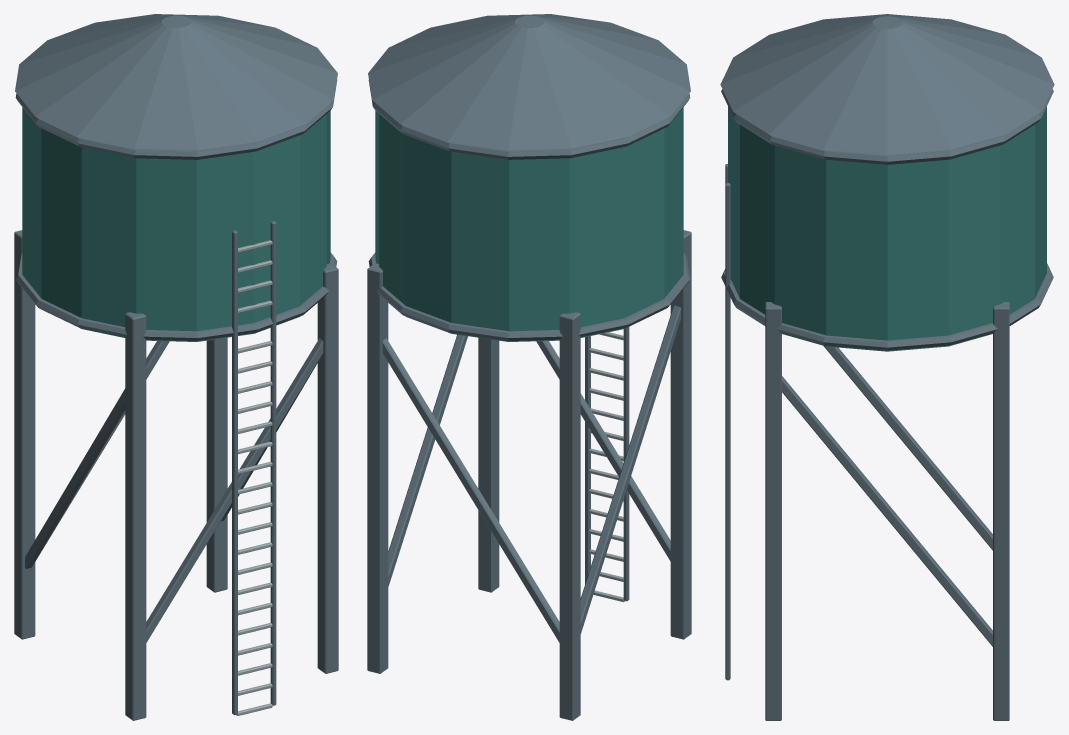
The model's file is architecture-water-tower.lod0.glb.
The picture shows the model from 3 angles, left to right: view 1: azimuth 30°, elevation 25°; view 2: azimuth 150°, elevation 25°; view 3: azimuth 270°, elevation 25°; orthographic projection. The views are drawn at different scales.
Visible parts, largest first — view 1: architecture-water-tower__body; view 2: architecture-water-tower__body; view 3: architecture-water-tower__body.
Part boxes in pixels (x1=…): architecture-water-tower__body: x1=14, y1=14, x2=338, y2=720; architecture-water-tower__body: x1=367, y1=14, x2=691, y2=720; architecture-water-tower__body: x1=720, y1=14, x2=1054, y2=720.
Size of the model in its own units: 4.4 by 9.43 by 4.4.
